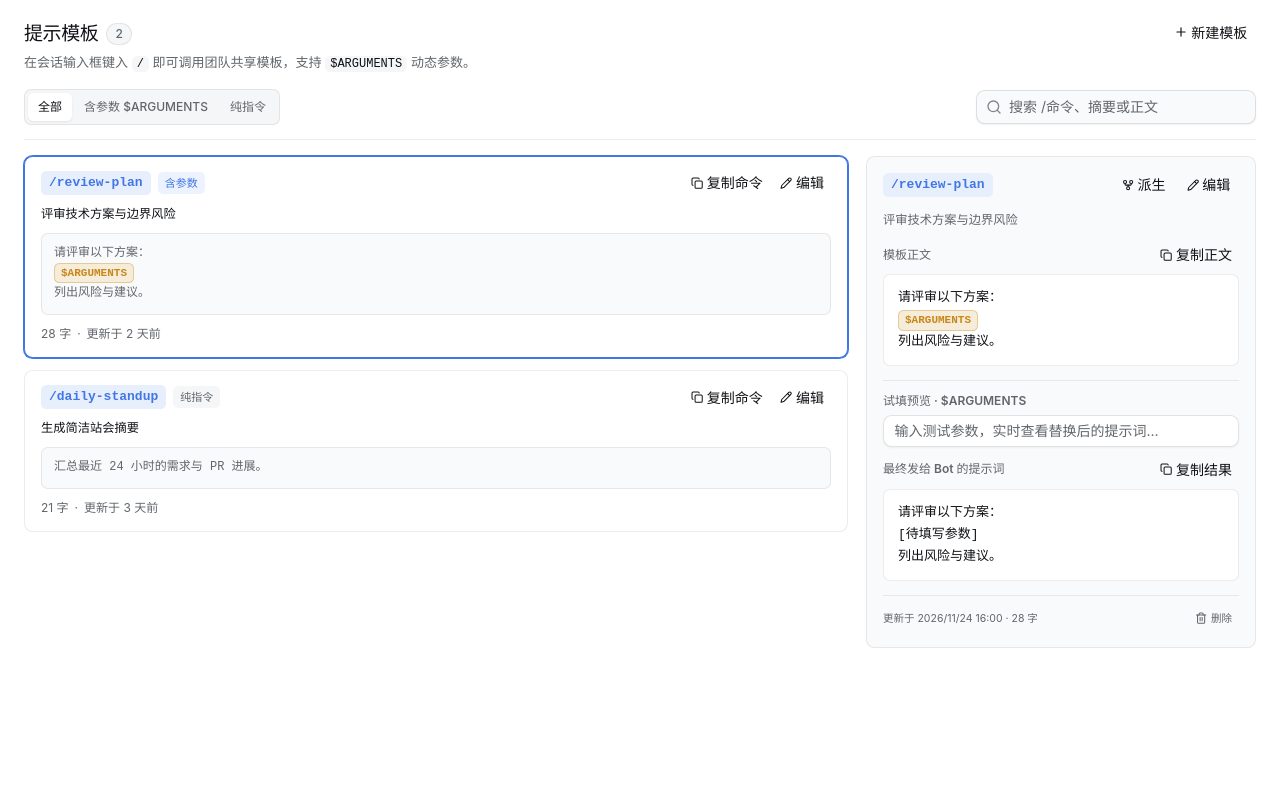
Scenario: BotPromptTemplatesPage › 打开双栏编辑弹窗后可实时预览 / 命令并插入 $ARGUMENTS
Click the button with aria-label "编辑 /review-plan" at (802, 183), box [773,170,831,195]
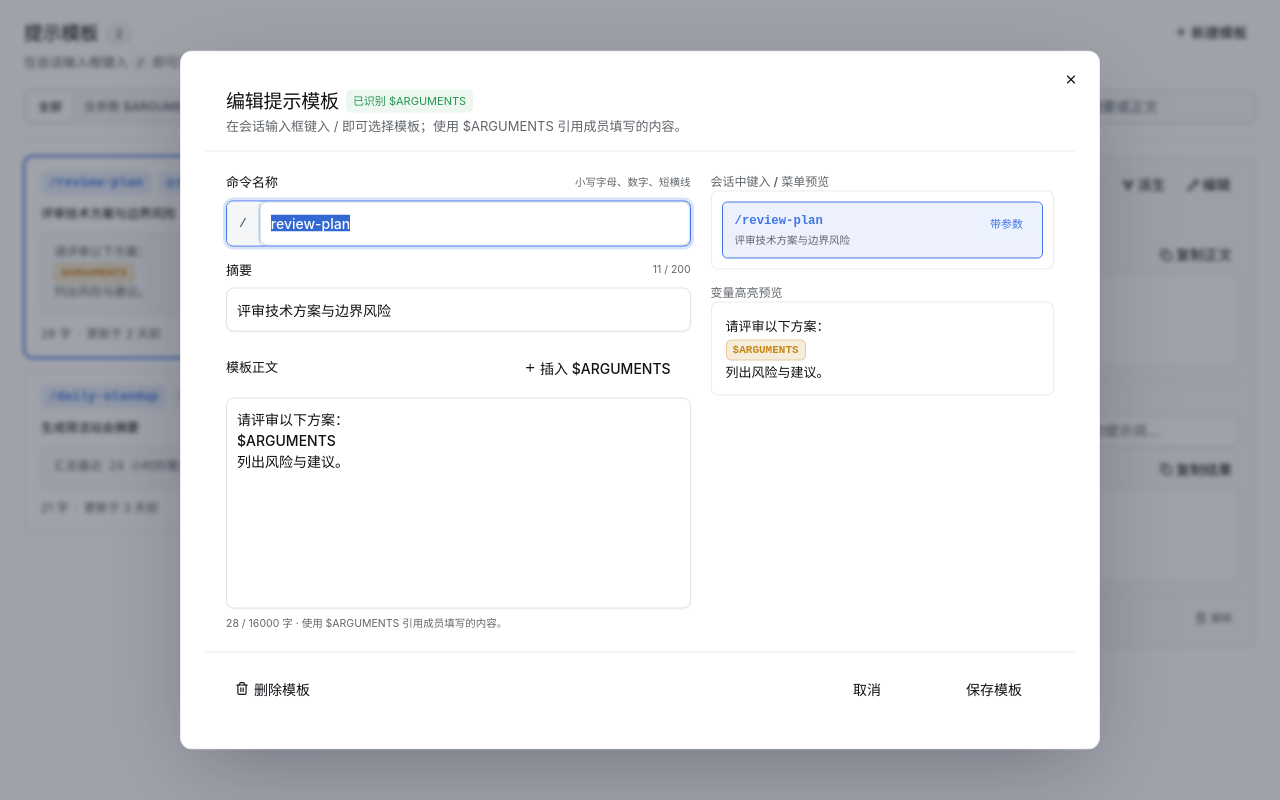
Expected: the dialog is shown
Expected: the element named "会话命令菜单预览" shows "/review-plan", [711,190,1054,270]
